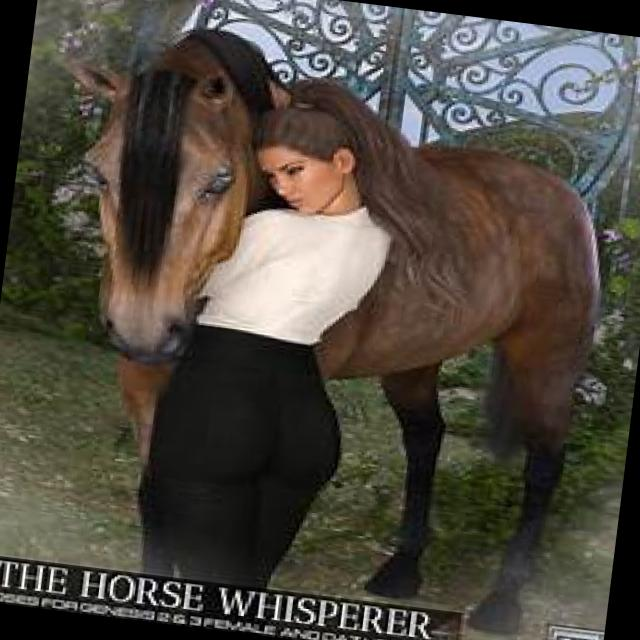horse: (5, 10, 628, 629)
